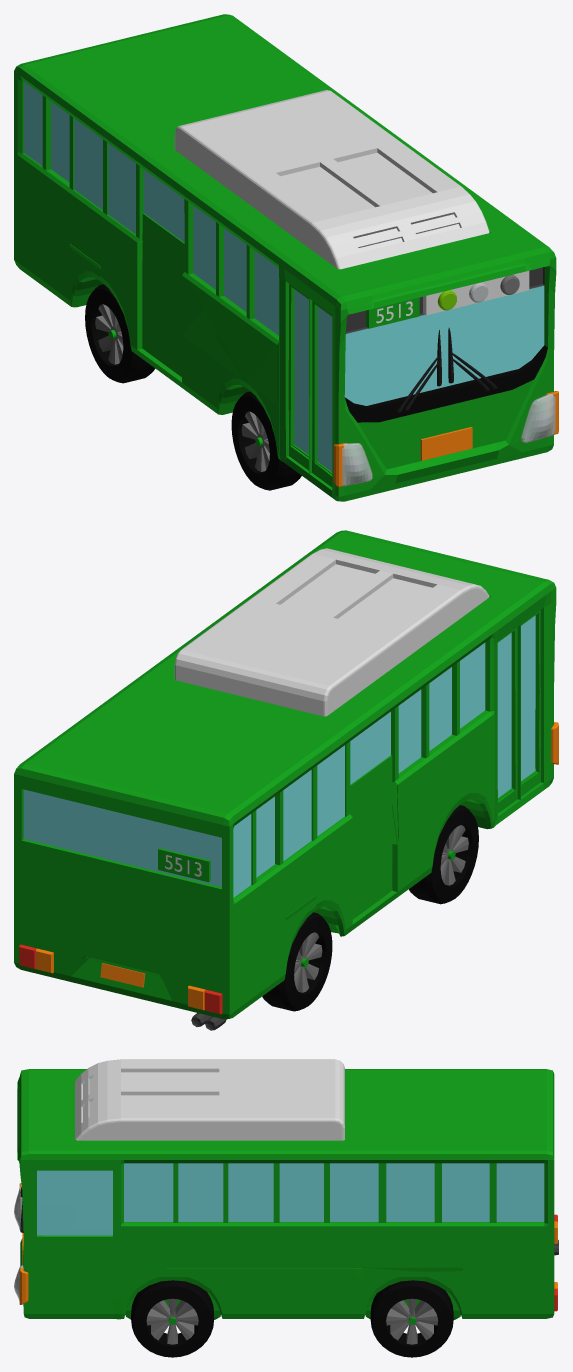
The model's file is vehicle_bus_5513.fbx.
3 renders of one model, top to bottom at view 1: azimuth 30°, elevation 25°; view 2: azimuth 150°, elevation 25°; view 3: azimuth 270°, elevation 25°, orthographic. The views are drawn at different scales.
Parts seen in each view (by area): view 1: Bus, FR_wheel, BR_wheel; view 2: Bus, BR_wheel, FR_wheel; view 3: Bus, BL_wheel, FL_wheel.
Boxes of the visible parts, x1,y1,x2,y2 form: Bus: [14, 14, 558, 501]; FR_wheel: [231, 391, 301, 490]; BR_wheel: [85, 284, 155, 383]; Bus: [14, 530, 558, 1030]; BR_wheel: [262, 912, 332, 1011]; FR_wheel: [409, 805, 478, 904]; Bus: [14, 1059, 558, 1324]; BL_wheel: [370, 1280, 453, 1357]; FL_wheel: [131, 1280, 213, 1357].
Bounding box in the file's own units: 285 × 345 × 738.
